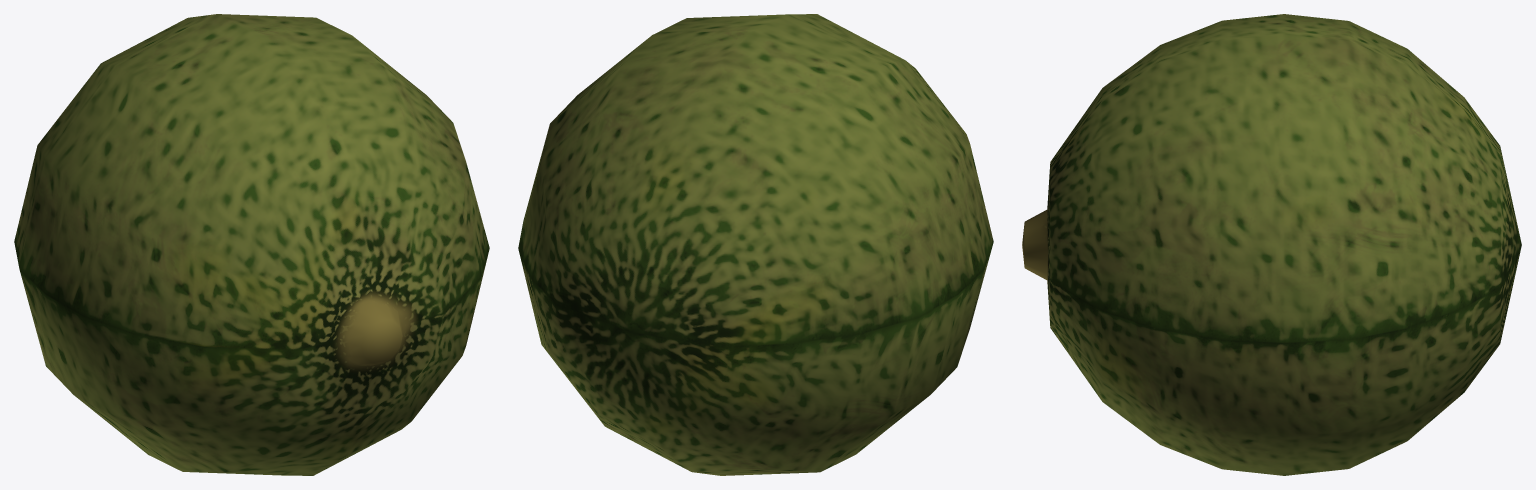
Rendered from MelonA.glb.
The picture shows the model from 3 angles, left to right: view 1: azimuth 30°, elevation 25°; view 2: azimuth 150°, elevation 25°; view 3: azimuth 270°, elevation 25°; orthographic projection.
Parts seen in each view (by area): view 1: MelonA_Melon_0; view 2: MelonA_Melon_0; view 3: MelonA_Melon_0.
Part boxes in pixels (box(x1,y1,x2,y2)): MelonA_Melon_0: box(14, 14, 489, 475); MelonA_Melon_0: box(518, 14, 993, 475); MelonA_Melon_0: box(1022, 14, 1521, 475).
Bounding box in the file's own units: 0.9167 × 0.9167 × 0.9879.
Materials: 1 (1 with a texture image).
